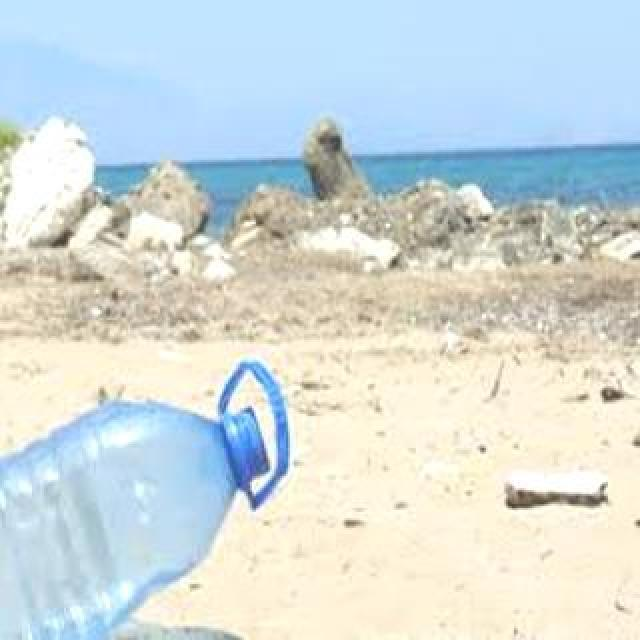Pet_Bottle: (0, 396, 268, 640)
